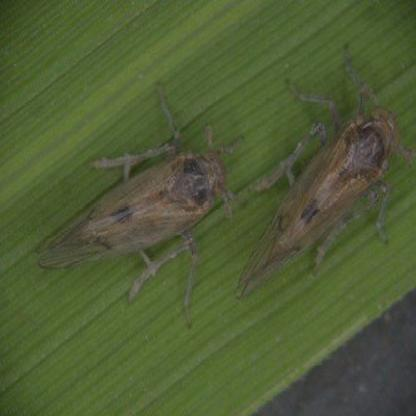brown-planthopper: (34, 118, 240, 288), (256, 72, 415, 274)
